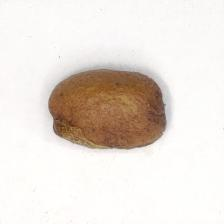NG: (48, 107, 113, 149)
